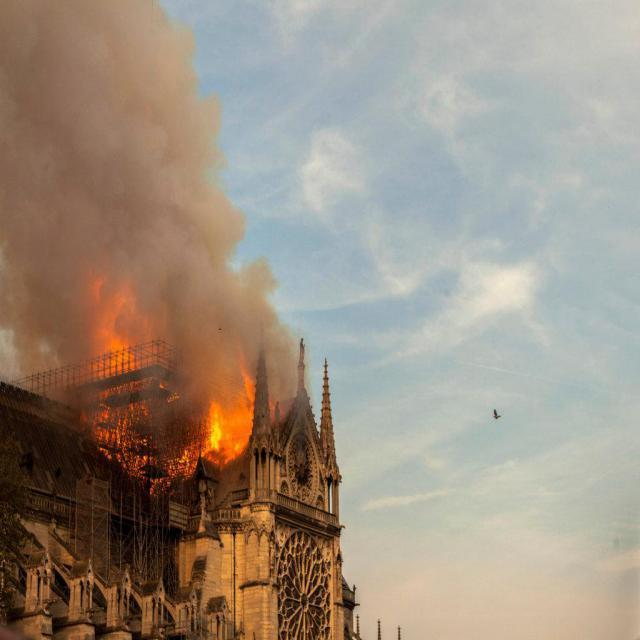Fire: (11, 215, 296, 460)
